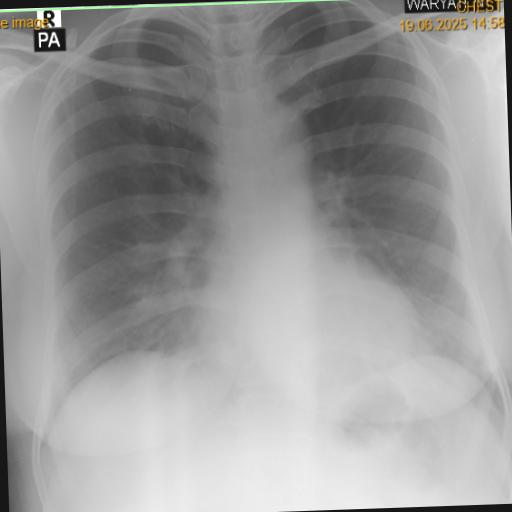kardiomegali: (16, 2, 510, 462)
